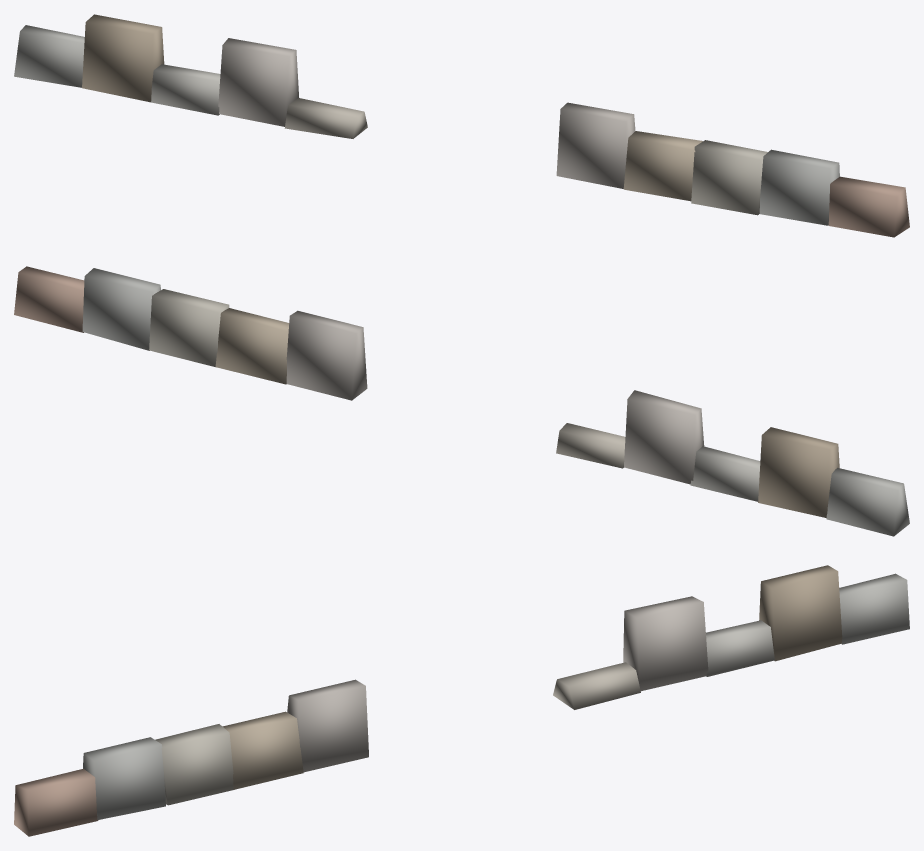
Rendered from farm_-59_-48_far.glb.
3 renders of one model, top to bottom at view 1: azimuth 30°, elevation 25°; view 2: azimuth 210°, elevation 25°; view 3: azimuth 270°, elevation 25°, orthographic. The views are drawn at different scales.
Visible parts, largest first — view 1: geometry_0; view 2: geometry_0; view 3: geometry_0.
Boxes of the visible parts, x1,y1,x2,y2 form: geometry_0: (14, 14, 909, 237); geometry_0: (14, 266, 909, 536); geometry_0: (14, 565, 909, 836).
Bounding box in the file's own units: 11.17 × 1.89 × 16.78.
